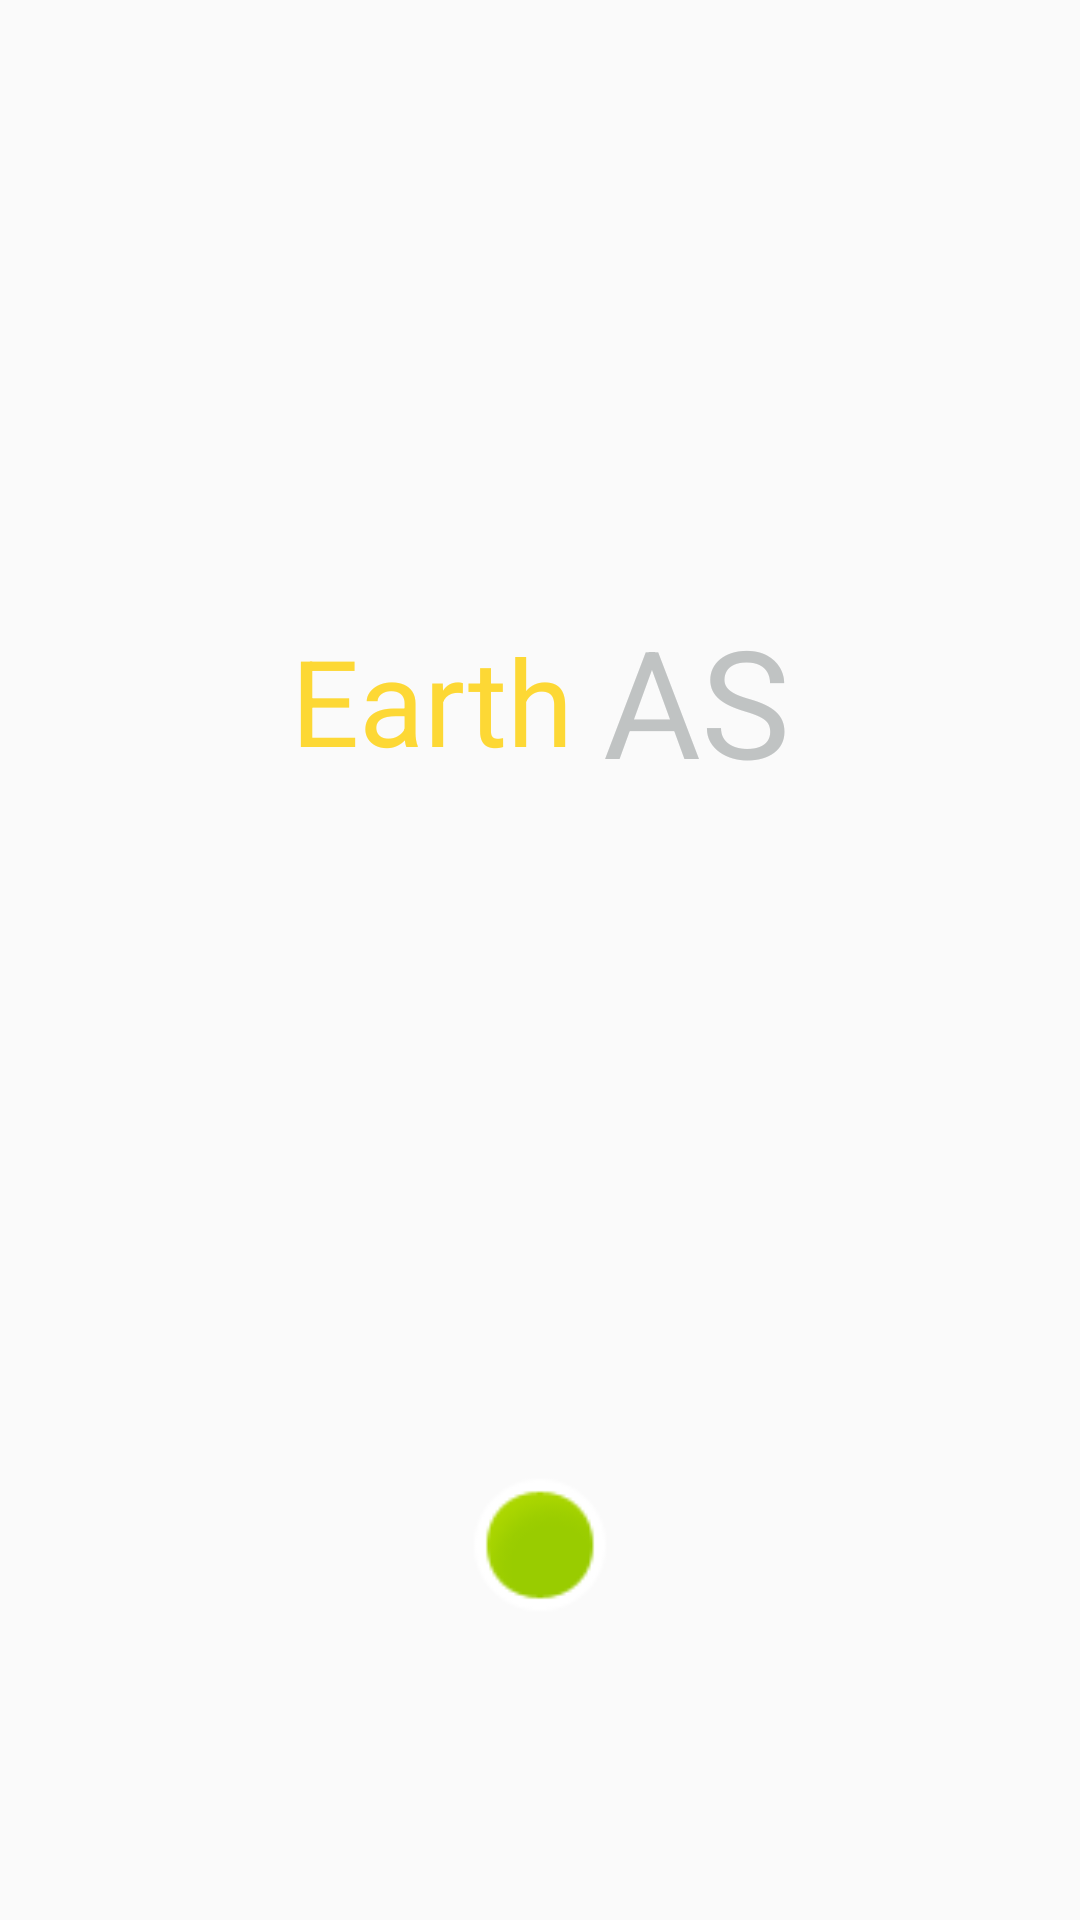

Screen size 1080px×1920px. Icon name, then its box in pixels as region(x1, y1, x2, y2):
presence online: region(486, 1491, 594, 1599)
